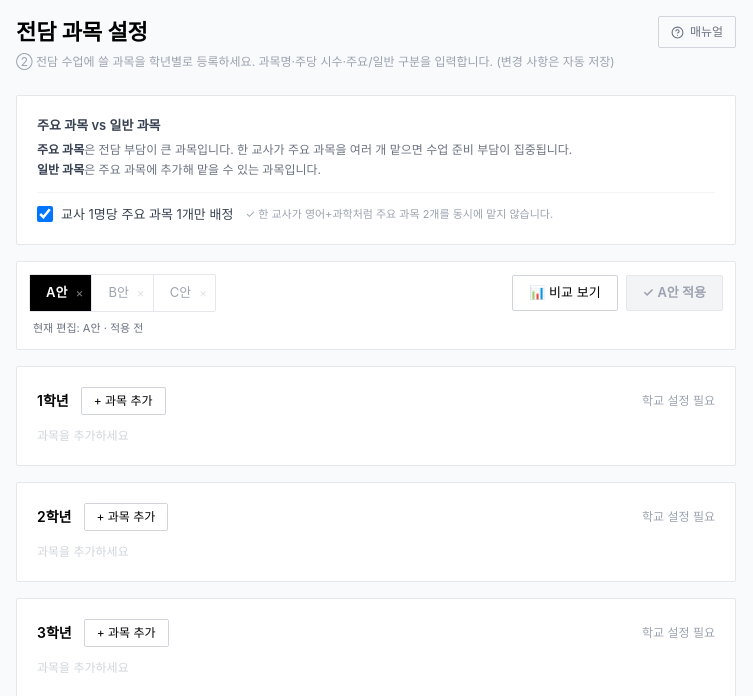
it: SubjectSetup › switches active plan tab on click
Click the button "B안".
click(115, 293)  # box [92,275,137,311]
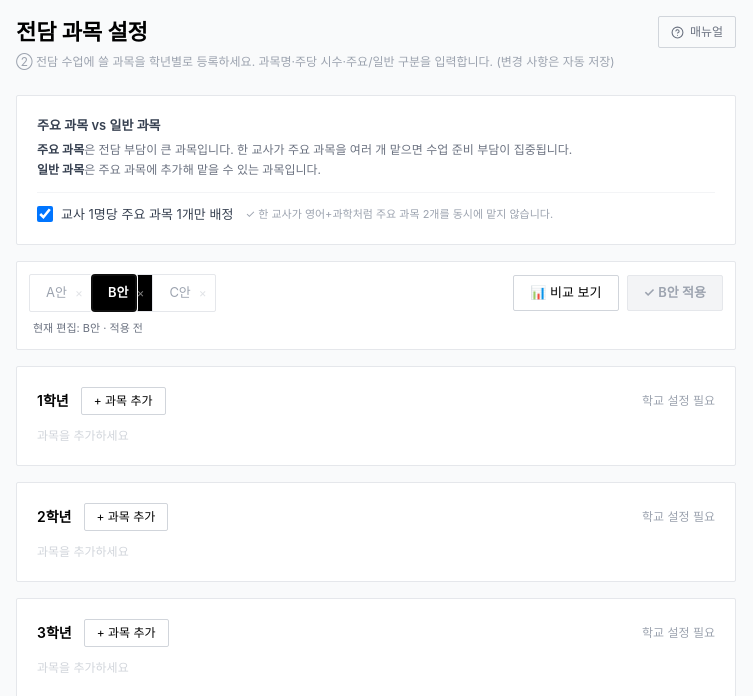
expect the text "현재 편집: B안 · 적용 전" is shown: met, box [33,321,143,335]
